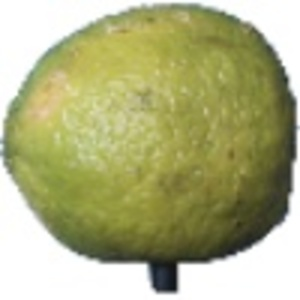limão: (1, 2, 300, 294)
